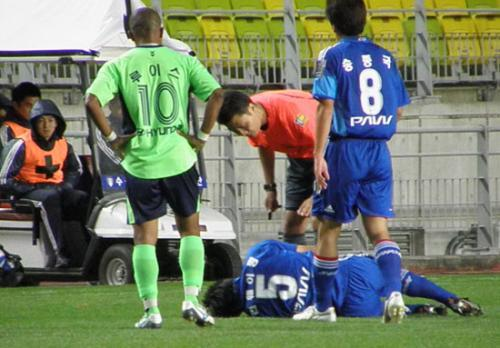bending: (206, 81, 345, 253), (2, 95, 91, 270)
down: (195, 234, 490, 326)
up: (79, 3, 228, 331), (288, 1, 419, 330)
